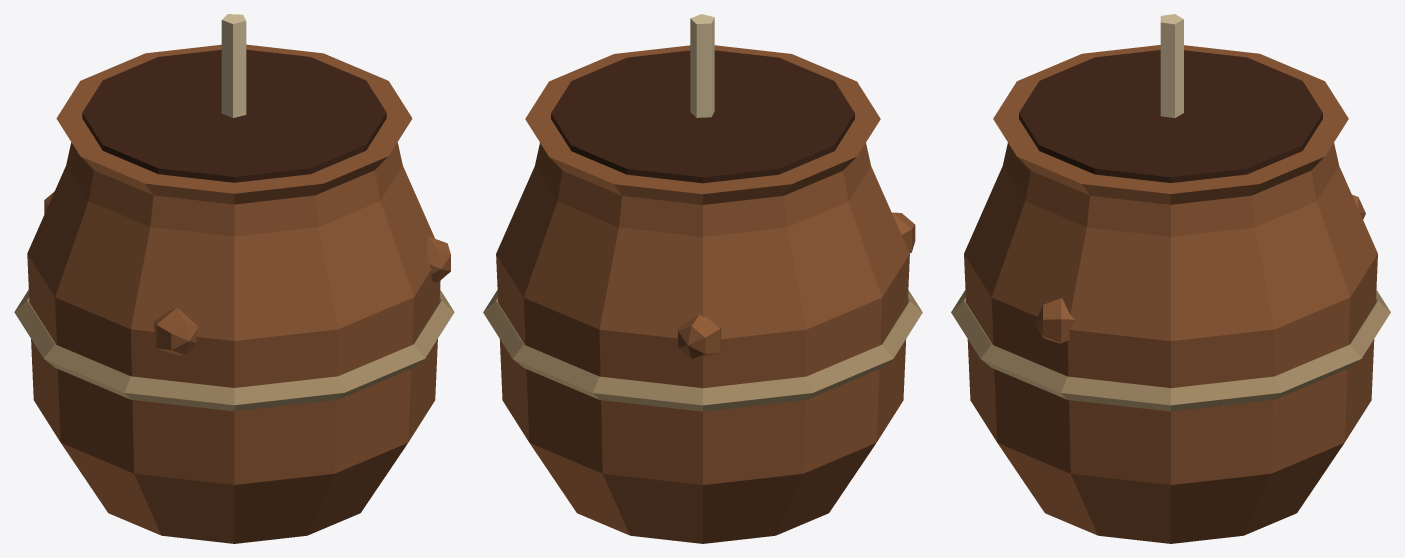
Rendered from smoke.glb.
The picture shows the model from 3 angles, left to right: view 1: azimuth 30°, elevation 25°; view 2: azimuth 150°, elevation 25°; view 3: azimuth 270°, elevation 25°; orthographic projection.
Parts seen in each view (by area): view 1: smoke; view 2: smoke; view 3: smoke.
Boxes of the visible parts, bbox=[...] form: smoke: bbox=[14, 14, 454, 543]; smoke: bbox=[483, 14, 922, 543]; smoke: bbox=[951, 14, 1390, 543].
Bounding box in the file's own units: 0.136 × 0.16 × 0.136.
